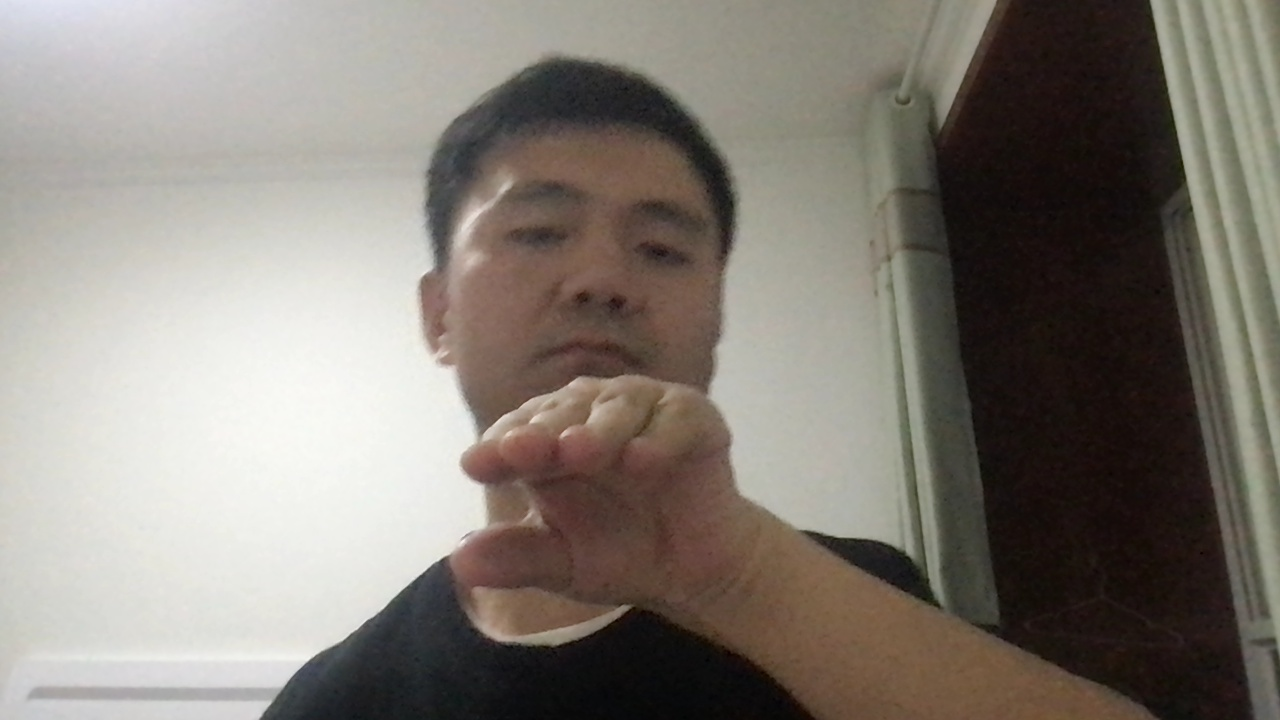no: (447, 375, 760, 619)
